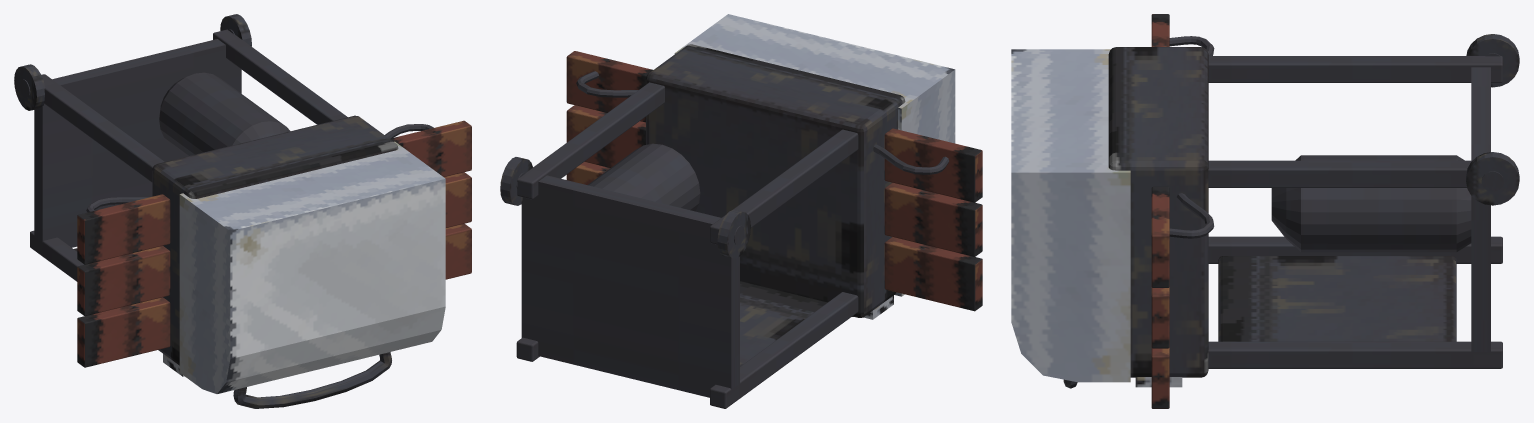
File: pz_barbecue_full_jorge.obj
3 views of the same model, side by side, from view 1: azimuth 30°, elevation 25°; view 2: azimuth 150°, elevation 25°; view 3: azimuth 270°, elevation 25° (orthographic). The views are drawn at different scales.
Visible parts, largest first — view 1: pz_barbecue_full_jorge_|_rounded_native_steel_hood, pz_barbecue_full_jorge_|_open_stand_bottom_shelf, pz_barbecue_full_jorge_|_grill_firebox, pz_barbecue_full_jorge_|_rounded_fuel_cylinder, pz_barbecue_full_jorge_|_native_wood_side_table_slat.002, pz_barbecue_full_jorge_|_native_wood_side_table_slat, pz_barbecue_full_jorge_|_native_wood_side_table_slat.001, pz_barbecue_full_jorge_|_square_stand_leg.001, pz_barbecue_full_jorge_|_square_stand_leg.003, pz_barbecue_full_jorge_|_native_wood_side_table_slat.005, pz_barbecue_full_jorge_|_EDITABLE_curved_hood_handle, pz_barbecue_full_jorge_|_native_wood_side_table_slat.003 (+4 smaller); view 2: pz_barbecue_full_jorge_|_grill_firebox, pz_barbecue_full_jorge_|_open_stand_bottom_shelf, pz_barbecue_full_jorge_|_rounded_native_steel_hood, pz_barbecue_full_jorge_|_native_wood_side_table_slat, pz_barbecue_full_jorge_|_native_wood_side_table_slat.001, pz_barbecue_full_jorge_|_native_wood_side_table_slat.002, pz_barbecue_full_jorge_|_rounded_fuel_cylinder, pz_barbecue_full_jorge_|_square_stand_leg.003, pz_barbecue_full_jorge_|_square_stand_leg, pz_barbecue_full_jorge_|_front_closed_lower_cabinet, pz_barbecue_full_jorge_|_square_stand_leg.001, pz_barbecue_full_jorge_|_native_wood_side_table_slat.005 (+7 smaller); view 3: pz_barbecue_full_jorge_|_rounded_native_steel_hood, pz_barbecue_full_jorge_|_grill_firebox, pz_barbecue_full_jorge_|_front_closed_lower_cabinet, pz_barbecue_full_jorge_|_rounded_fuel_cylinder, pz_barbecue_full_jorge_|_square_stand_leg.002, pz_barbecue_full_jorge_|_square_stand_leg.001, pz_barbecue_full_jorge_|_square_stand_leg.003, pz_barbecue_full_jorge_|_open_stand_bottom_shelf, pz_barbecue_full_jorge_|_square_stand_leg, pz_barbecue_full_jorge_|_wheel.001, pz_barbecue_full_jorge_|_native_wood_side_table_slat.005, pz_barbecue_full_jorge_|_wheel (+4 smaller).
Boxes of the visible parts, box(x1,y1,x2,y2) form: pz_barbecue_full_jorge_|_rounded_native_steel_hood: box(179, 141, 445, 393); pz_barbecue_full_jorge_|_open_stand_bottom_shelf: box(34, 39, 241, 250); pz_barbecue_full_jorge_|_grill_firebox: box(152, 115, 398, 365); pz_barbecue_full_jorge_|_rounded_fuel_cylinder: box(159, 72, 290, 156); pz_barbecue_full_jorge_|_native_wood_side_table_slat.002: box(77, 194, 170, 264); pz_barbecue_full_jorge_|_native_wood_side_table_slat: box(77, 297, 170, 367); pz_barbecue_full_jorge_|_native_wood_side_table_slat.001: box(77, 246, 170, 315); pz_barbecue_full_jorge_|_square_stand_leg.001: box(41, 74, 164, 182); pz_barbecue_full_jorge_|_square_stand_leg.003: box(213, 29, 347, 124); pz_barbecue_full_jorge_|_native_wood_side_table_slat.005: box(390, 120, 471, 176); pz_barbecue_full_jorge_|_EDITABLE_curved_hood_handle: box(233, 352, 391, 408); pz_barbecue_full_jorge_|_native_wood_side_table_slat.003: box(445, 223, 471, 279); pz_barbecue_full_jorge_|_grill_firebox: box(646, 44, 905, 317); pz_barbecue_full_jorge_|_open_stand_bottom_shelf: box(521, 175, 739, 402); pz_barbecue_full_jorge_|_rounded_native_steel_hood: box(674, 14, 955, 296); pz_barbecue_full_jorge_|_native_wood_side_table_slat: box(884, 237, 982, 311); pz_barbecue_full_jorge_|_native_wood_side_table_slat.001: box(884, 182, 982, 256); pz_barbecue_full_jorge_|_native_wood_side_table_slat.002: box(884, 128, 982, 202); pz_barbecue_full_jorge_|_rounded_fuel_cylinder: box(587, 143, 700, 211); pz_barbecue_full_jorge_|_square_stand_leg.003: box(517, 82, 664, 199); pz_barbecue_full_jorge_|_square_stand_leg: box(710, 292, 858, 408); pz_barbecue_full_jorge_|_front_closed_lower_cabinet: box(740, 281, 827, 366); pz_barbecue_full_jorge_|_square_stand_leg.001: box(710, 129, 858, 244); pz_barbecue_full_jorge_|_native_wood_side_table_slat.005: box(566, 51, 652, 122); pz_barbecue_full_jorge_|_rounded_native_steel_hood: box(1011, 49, 1130, 382); pz_barbecue_full_jorge_|_grill_firebox: box(1108, 47, 1208, 377); pz_barbecue_full_jorge_|_front_closed_lower_cabinet: box(1218, 256, 1456, 341); pz_barbecue_full_jorge_|_rounded_fuel_cylinder: box(1271, 155, 1471, 252); pz_barbecue_full_jorge_|_square_stand_leg.002: box(1208, 341, 1502, 368); pz_barbecue_full_jorge_|_square_stand_leg.001: box(1208, 56, 1502, 82); pz_barbecue_full_jorge_|_square_stand_leg.003: box(1208, 160, 1471, 187); pz_barbecue_full_jorge_|_open_stand_bottom_shelf: box(1471, 67, 1490, 366); pz_barbecue_full_jorge_|_square_stand_leg: box(1208, 236, 1502, 263); pz_barbecue_full_jorge_|_wheel.001: box(1466, 152, 1519, 205); pz_barbecue_full_jorge_|_native_wood_side_table_slat.005: box(1151, 186, 1169, 287); pz_barbecue_full_jorge_|_wheel: box(1466, 34, 1519, 87).
Size of the model in its own units: 1.08 by 0.6062 by 1.04.
3 materials, 3 textured.
